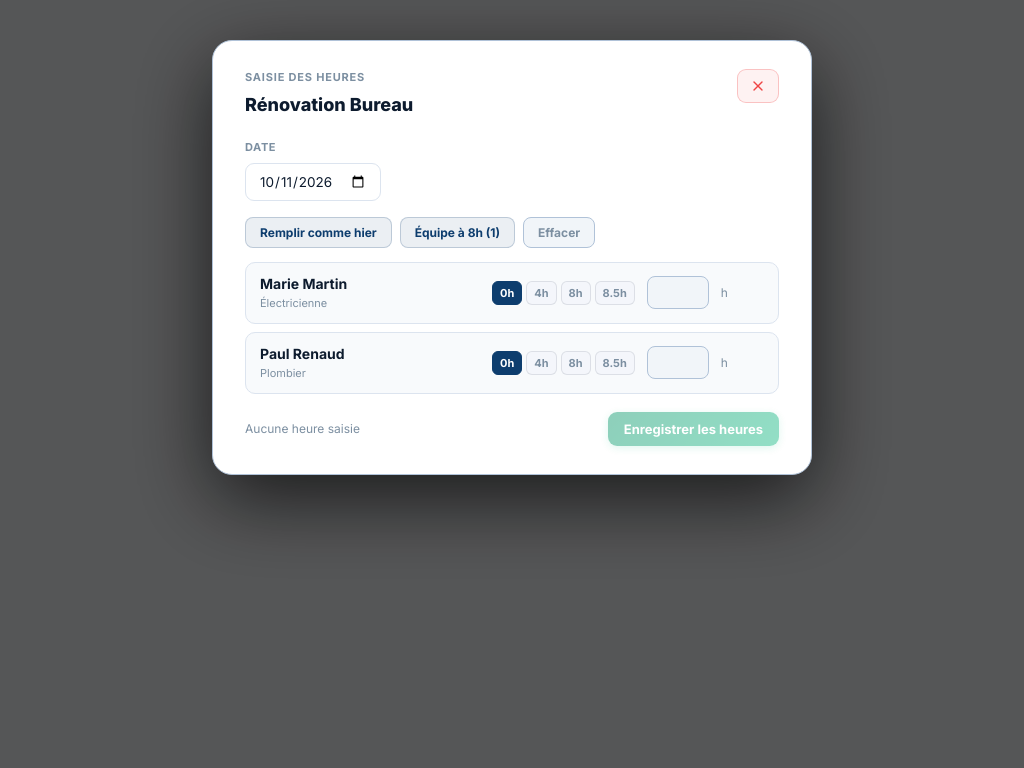
Test case: ModalSaisieHeures › quick fill 8h pour 2 employés → compteur "2 employés · 16h"
Step 1. Click the button "8h" in the row of "Marie Martin" → (576, 293), box [560,281,590,305]
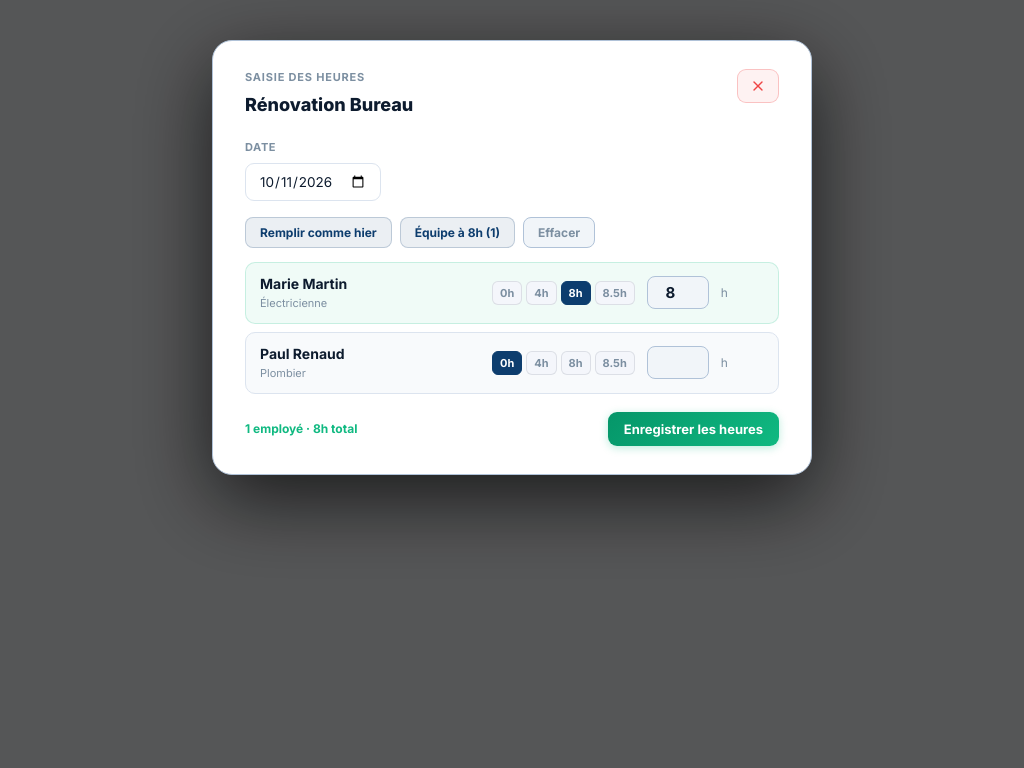
Step 2. Click the button "8h" in the row of "Paul Renaud" → (576, 363), box [560,351,590,375]
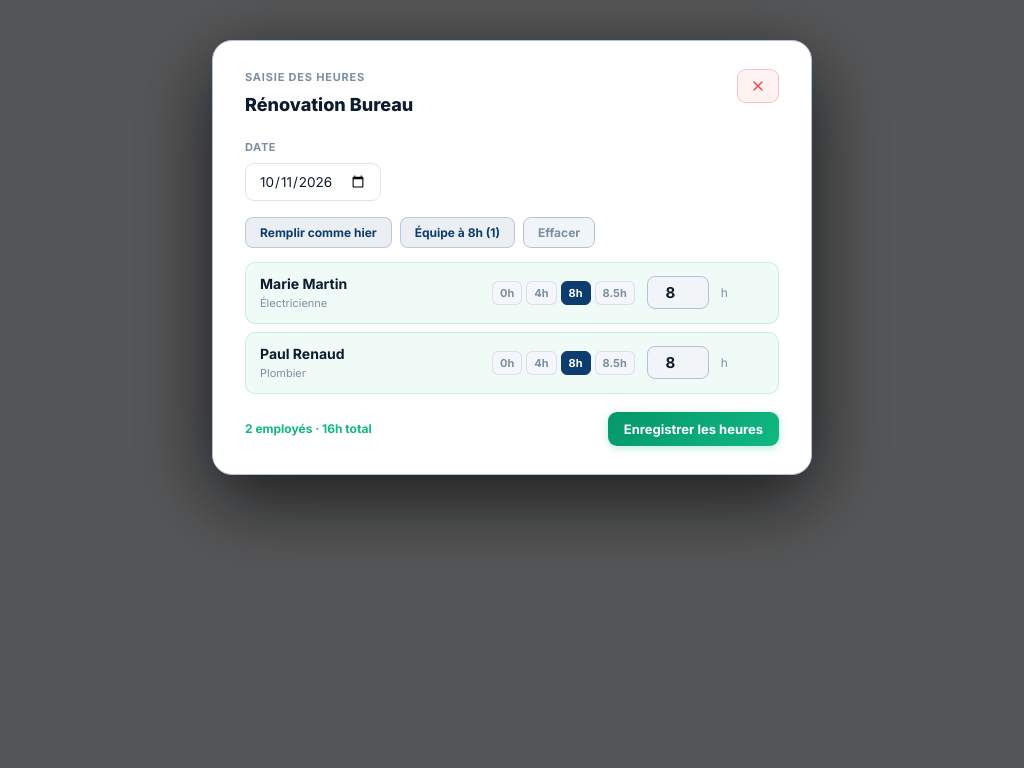
Check: the text "2 employés · 16h total" is shown, box [245,421,372,436]
